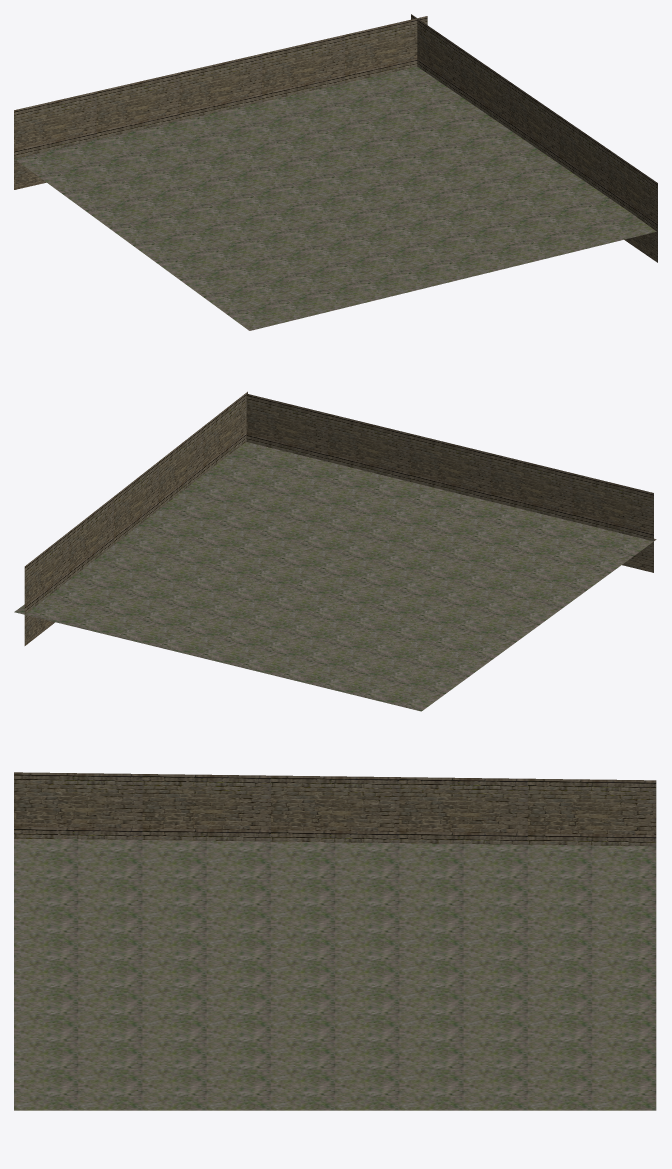
3 views of the same model, one above another, from view 1: azimuth 30°, elevation 25°; view 2: azimuth 150°, elevation 25°; view 3: azimuth 270°, elevation 25° (orthographic). The views are drawn at different scales.
Parts seen in each view (by area): view 1: Ground, Wall4, Wall3; view 2: Ground, Wall1, Wall3; view 3: Ground, Wall2.
Boxes of the visible parts, <box> form: Ground: <box>15,66,656,330</box>; Wall4: <box>14,16,427,189</box>; Wall3: <box>411,14,657,262</box>; Ground: <box>14,442,656,711</box>; Wall1: <box>246,394,653,572</box>; Wall3: <box>24,391,247,645</box>; Ground: <box>14,839,656,1110</box>; Wall2: <box>14,772,656,846</box>.
Size of what is drawn, in the model's own units: 515 by 96 by 513.
Materials: 2 (2 with a texture image).
